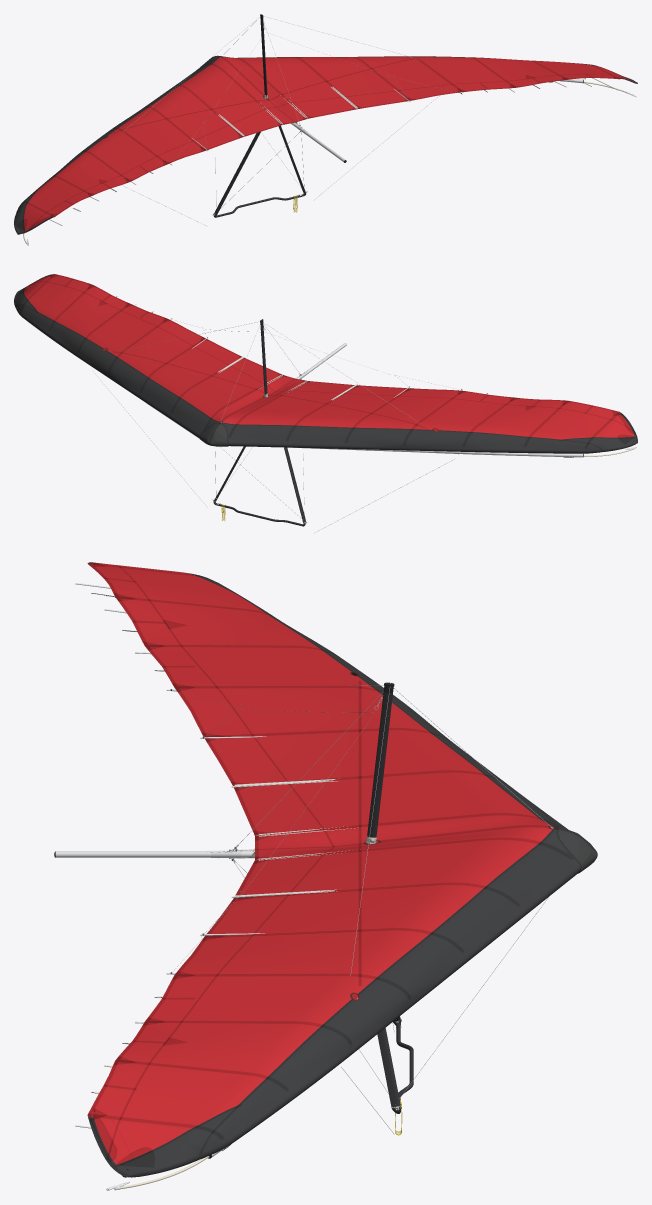
3 renders of one model, top to bottom at view 1: azimuth 30°, elevation 25°; view 2: azimuth 150°, elevation 25°; view 3: azimuth 270°, elevation 25°, orthographic. The views are drawn at different scales.
Parts seen in each view (by area): view 1: Sail L, Sail R, Downtube L; view 2: Sail L, Sail R, Sail nose cone; view 3: Sail R, Sail L, Kingpost, Keel stinger, Sail nose cone.
Part boxes in pixels (x1=…): Sail L: x1=14, y1=57, x2=294, y2=234; Sail R: x1=220, y1=56, x2=637, y2=122; Downtube L: x1=214, y1=131, x2=260, y2=215; Sail L: x1=213, y1=378, x2=637, y2=453; Sail R: x1=14, y1=274, x2=294, y2=440; Sail nose cone: x1=199, y1=423, x2=228, y2=446; Sail R: x1=87, y1=826, x2=593, y2=1177; Sail L: x1=87, y1=562, x2=568, y2=849; Kingpost: x1=366, y1=692, x2=392, y2=843; Keel stinger: x1=55, y1=851, x2=210, y2=857; Sail nose cone: x1=556, y1=826, x2=597, y2=873.
Bounding box in the file's own units: 9.6 × 3.08 × 3.64.
Materials: 48 (7 with a texture image).
